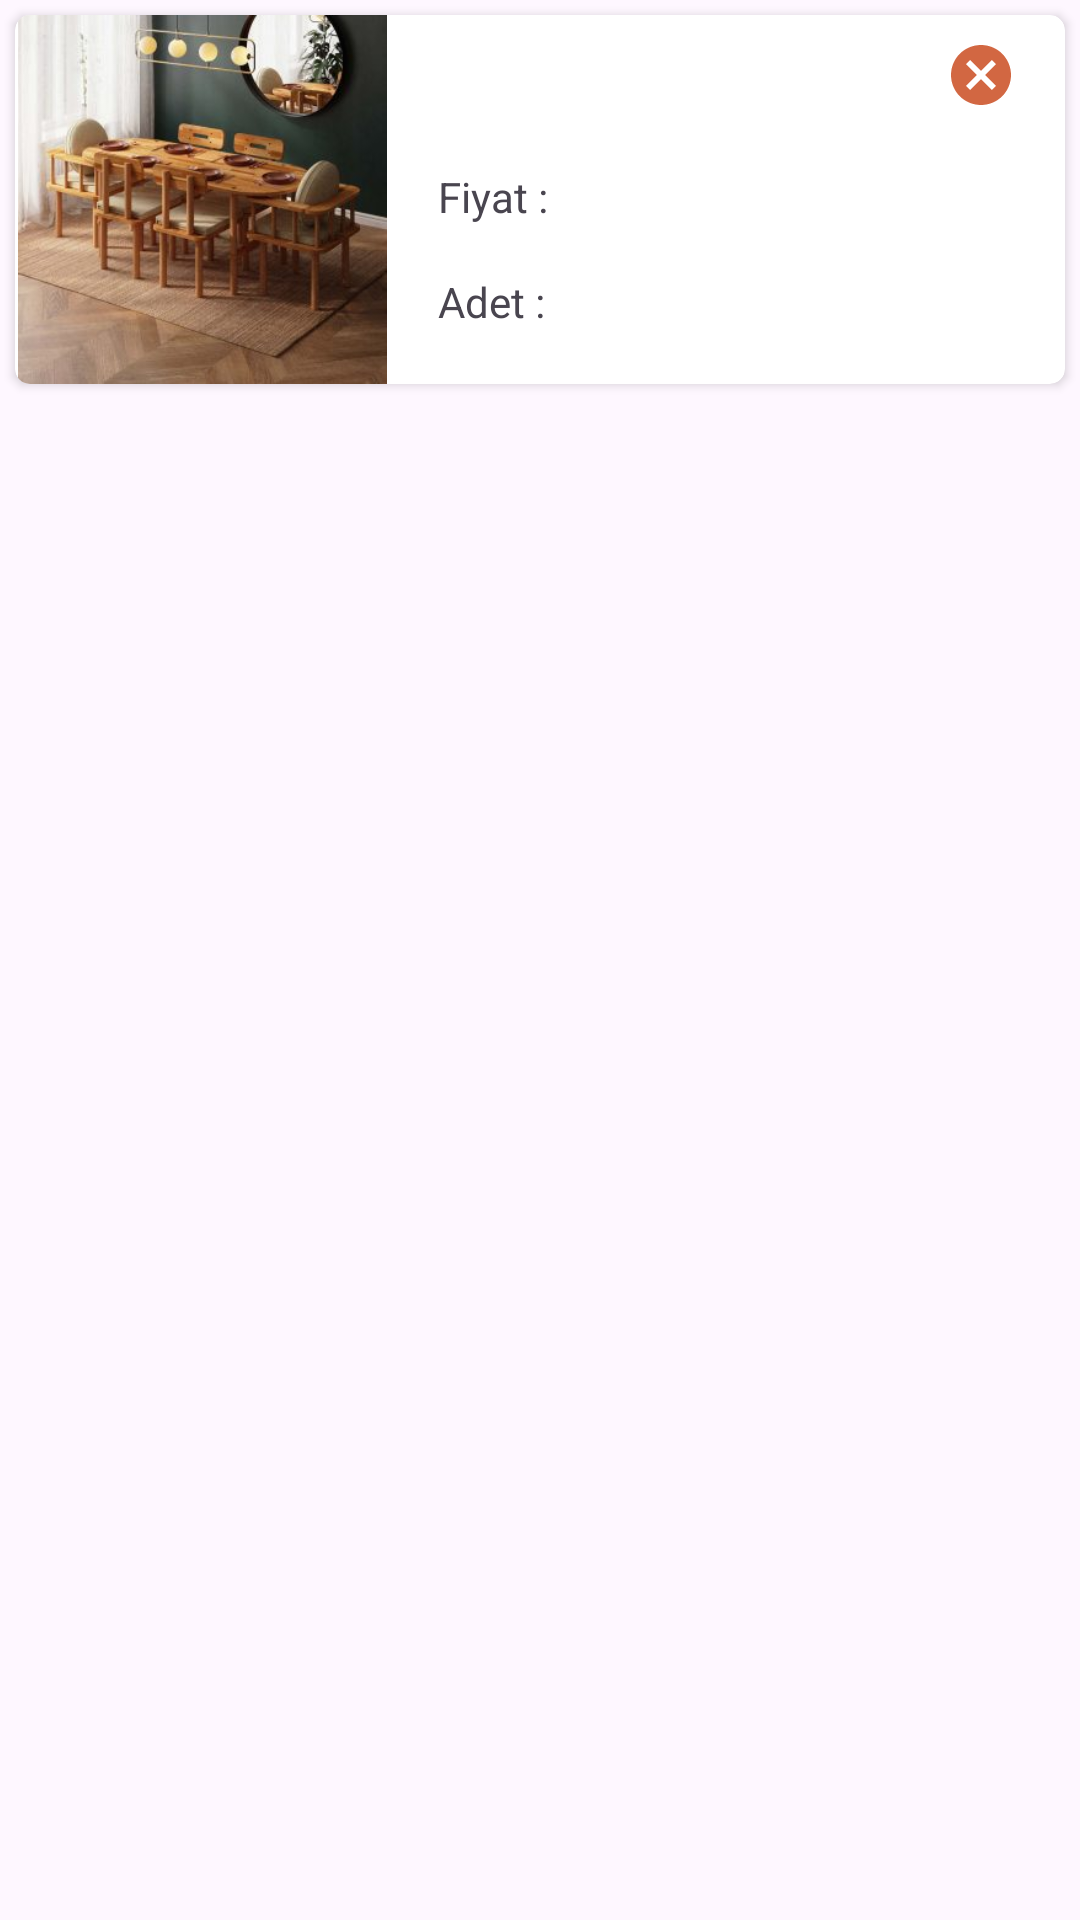

Named icons in this screenshot (1080px×1920px) and their centers, [x,y]:
cancel: [981,75]
